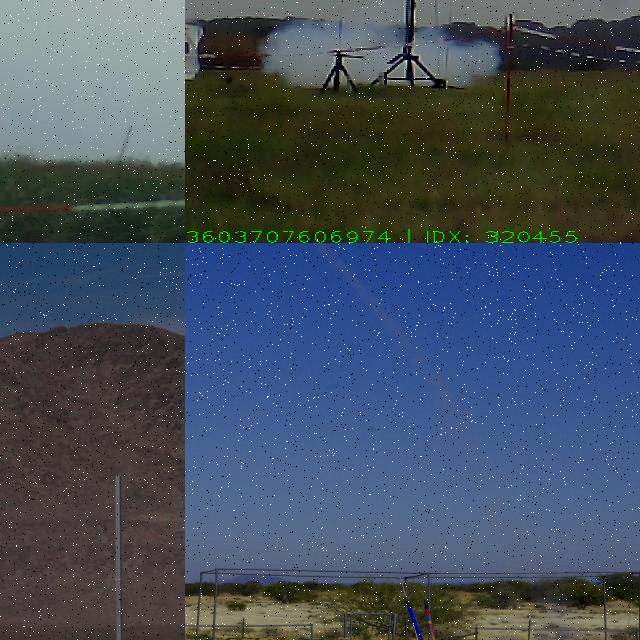Rocket: (405, 597, 429, 640), (423, 598, 440, 640)
